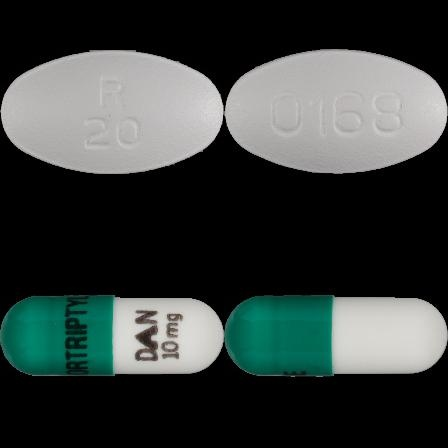63187-321: (0, 0, 224, 224)
